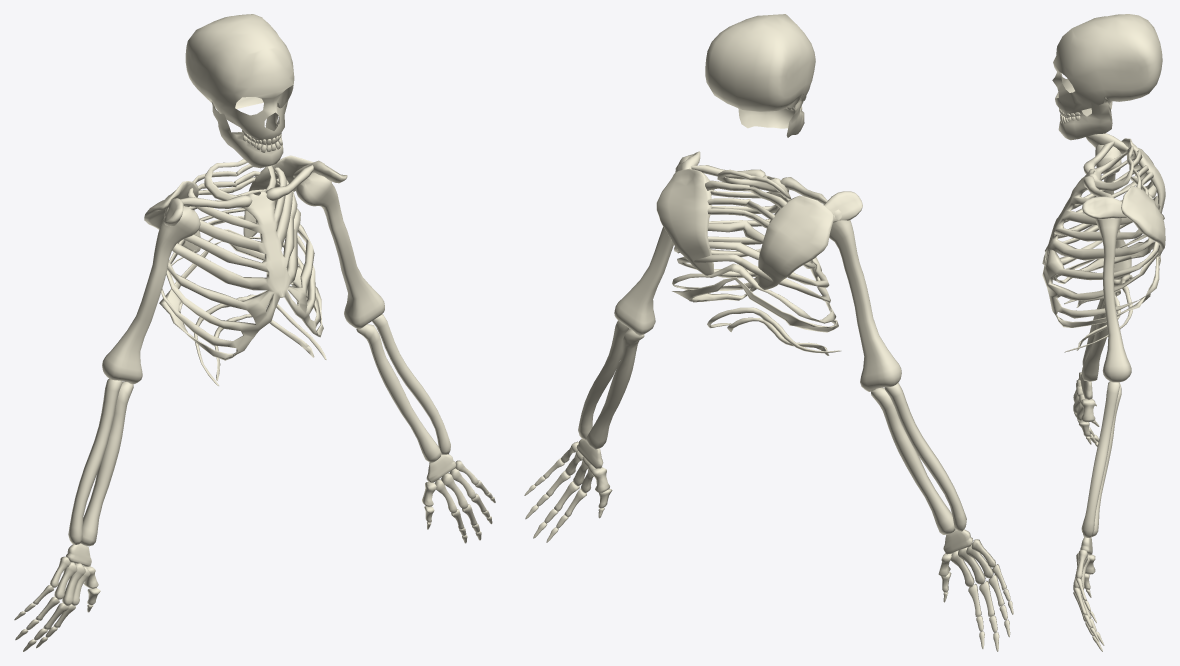
Rendered from skeleton-rig.glb.
3 renders of one model, left to right at view 1: azimuth 30°, elevation 25°; view 2: azimuth 150°, elevation 25°; view 3: azimuth 270°, elevation 25°, orthographic. The views are drawn at different scales.
Visible parts, largest first — view 1: Torso, Head, Forearm_R, UpperArm_R, Forearm_L, UpperArm_L, Hand_R, Hand_L; view 2: Torso, Head, Forearm_R, UpperArm_R, Hand_R, Forearm_L, Hand_L, UpperArm_L; view 3: Torso, Head, UpperArm_L, Forearm_L, Hand_L, Hand_R, Forearm_R, UpperArm_R.
Boxes of the visible parts, x1=… form: Torso: x1=144, y1=155, x2=347, y2=385; Head: x1=185, y1=14, x2=294, y2=168; Forearm_R: x1=68, y1=378, x2=133, y2=546; UpperArm_R: x1=102, y1=206, x2=200, y2=384; Forearm_L: x1=356, y1=314, x2=450, y2=462; UpperArm_L: x1=296, y1=172, x2=384, y2=329; Hand_R: x1=14, y1=543, x2=100, y2=651; Hand_L: x1=422, y1=454, x2=495, y2=543; Torso: x1=656, y1=151, x2=862, y2=355; Head: x1=705, y1=14, x2=815, y2=137; Forearm_R: x1=871, y1=382, x2=966, y2=534; UpperArm_R: x1=823, y1=204, x2=901, y2=391; Hand_R: x1=938, y1=529, x2=1013, y2=651; Forearm_L: x1=578, y1=320, x2=644, y2=449; Hand_L: x1=524, y1=439, x2=612, y2=542; UpperArm_L: x1=614, y1=173, x2=714, y2=335; Torso: x1=1042, y1=133, x2=1165, y2=352; Head: x1=1052, y1=14, x2=1162, y2=140; UpperArm_L: x1=1095, y1=218, x2=1131, y2=382; Forearm_L: x1=1081, y1=381, x2=1121, y2=537; Hand_L: x1=1073, y1=537, x2=1104, y2=651; Hand_R: x1=1073, y1=372, x2=1099, y2=446; Forearm_R: x1=1081, y1=279, x2=1120, y2=381; UpperArm_R: x1=1095, y1=144, x2=1131, y2=279.
Size of the model in its own units: 1.23 by 1.39 by 0.2939.
